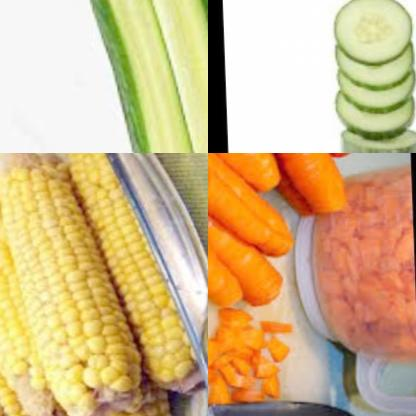carrot: (312, 166, 416, 360), (208, 299, 306, 416), (208, 153, 346, 227), (208, 153, 291, 265), (208, 212, 286, 313), (208, 166, 284, 256), (208, 153, 242, 319)
corn: (0, 153, 144, 416), (58, 153, 204, 396), (0, 185, 68, 416), (0, 217, 47, 416), (39, 398, 172, 416)
cucumber: (70, 0, 205, 153), (113, 0, 208, 153), (326, 0, 416, 131), (135, 0, 208, 153)
